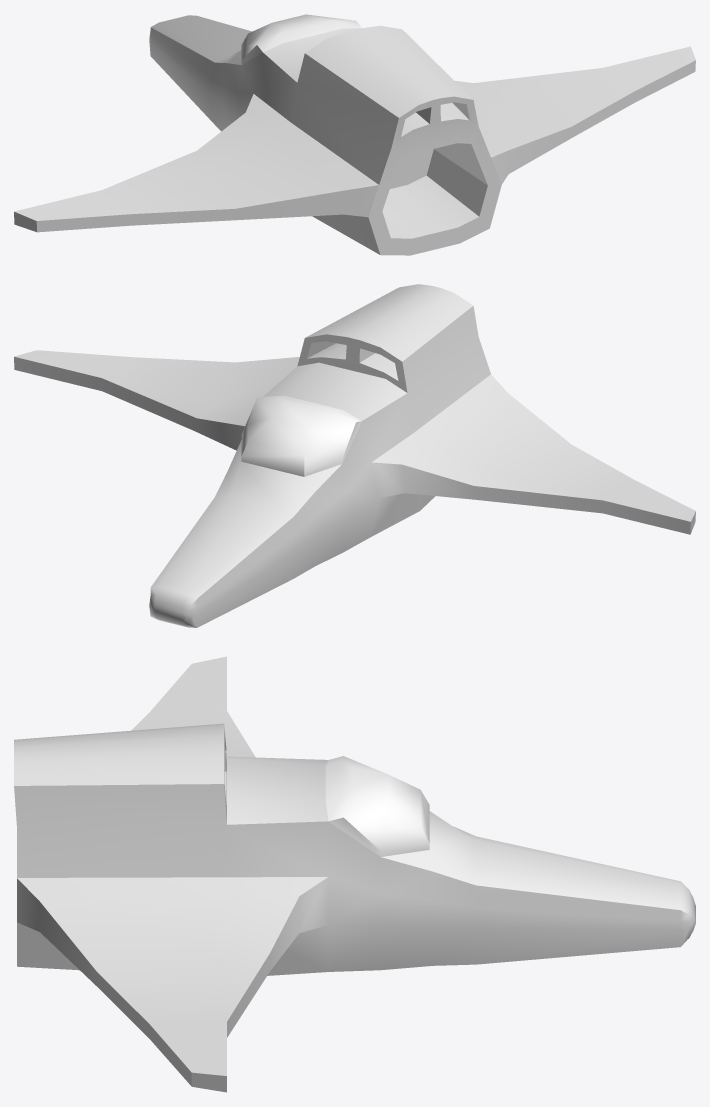
File: jade_skiff.glb
3 renders of one model, top to bottom at view 1: azimuth 30°, elevation 25°; view 2: azimuth 150°, elevation 25°; view 3: azimuth 270°, elevation 25°, orthographic. The views are drawn at different scales.
Visible parts, largest first — view 1: Body; view 2: Body; view 3: Body.
Boxes of the visible parts, x1=… form: Body: x1=14, y1=14, x2=695, y2=255; Body: x1=14, y1=284, x2=695, y2=627; Body: x1=14, y1=656, x2=695, y2=1092.
Size of the model in its own units: 6 by 1.39 by 4.12.
2 materials, 1 textured.
